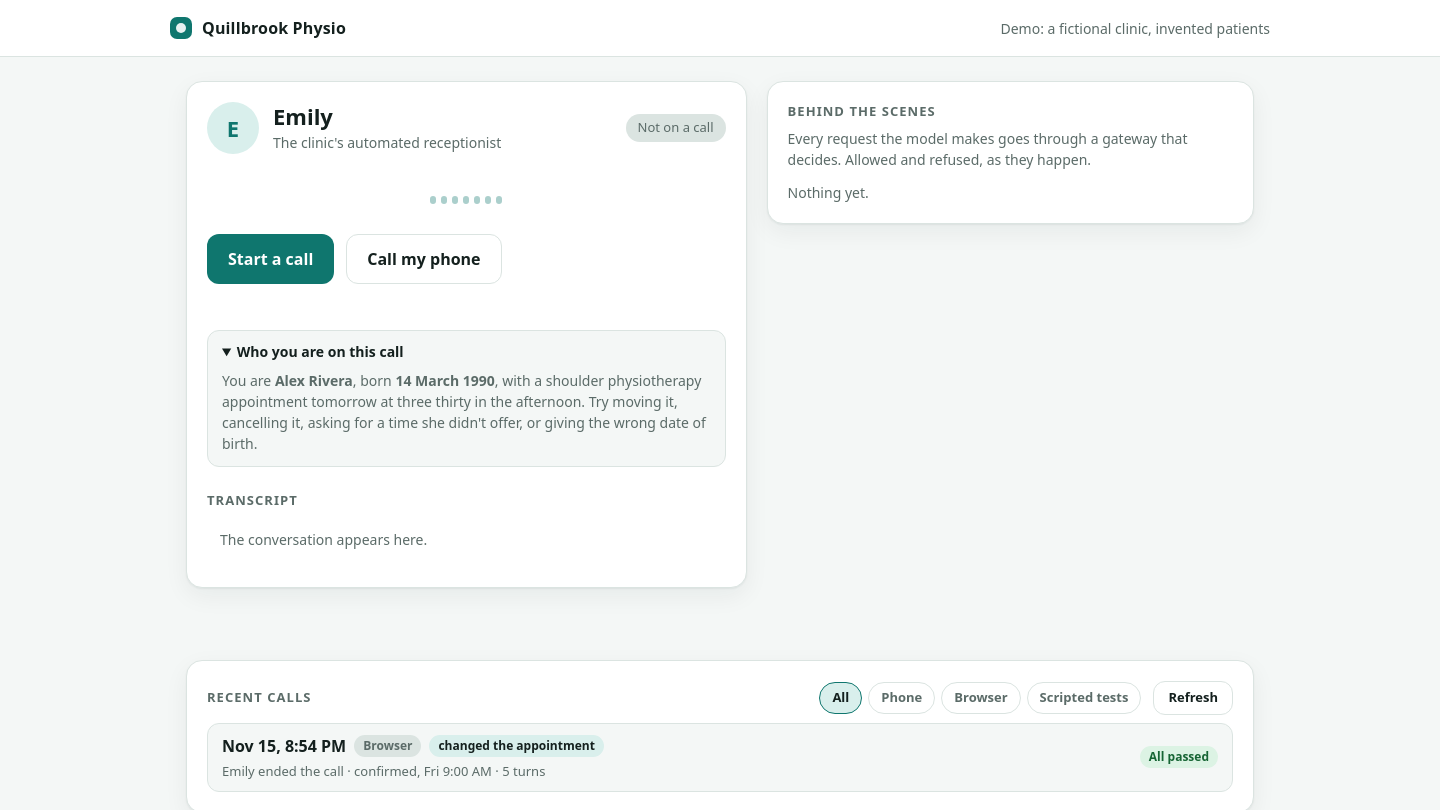
Test: opening a past call from the page › shows the transcript, the gateway's decisions and the review, as plain text, and goes back to live
This screenshot has width=1440, height=810.
Click the button that starts with "Nov 15, 8:54 PM": (284, 746) [207,723,1233,792]
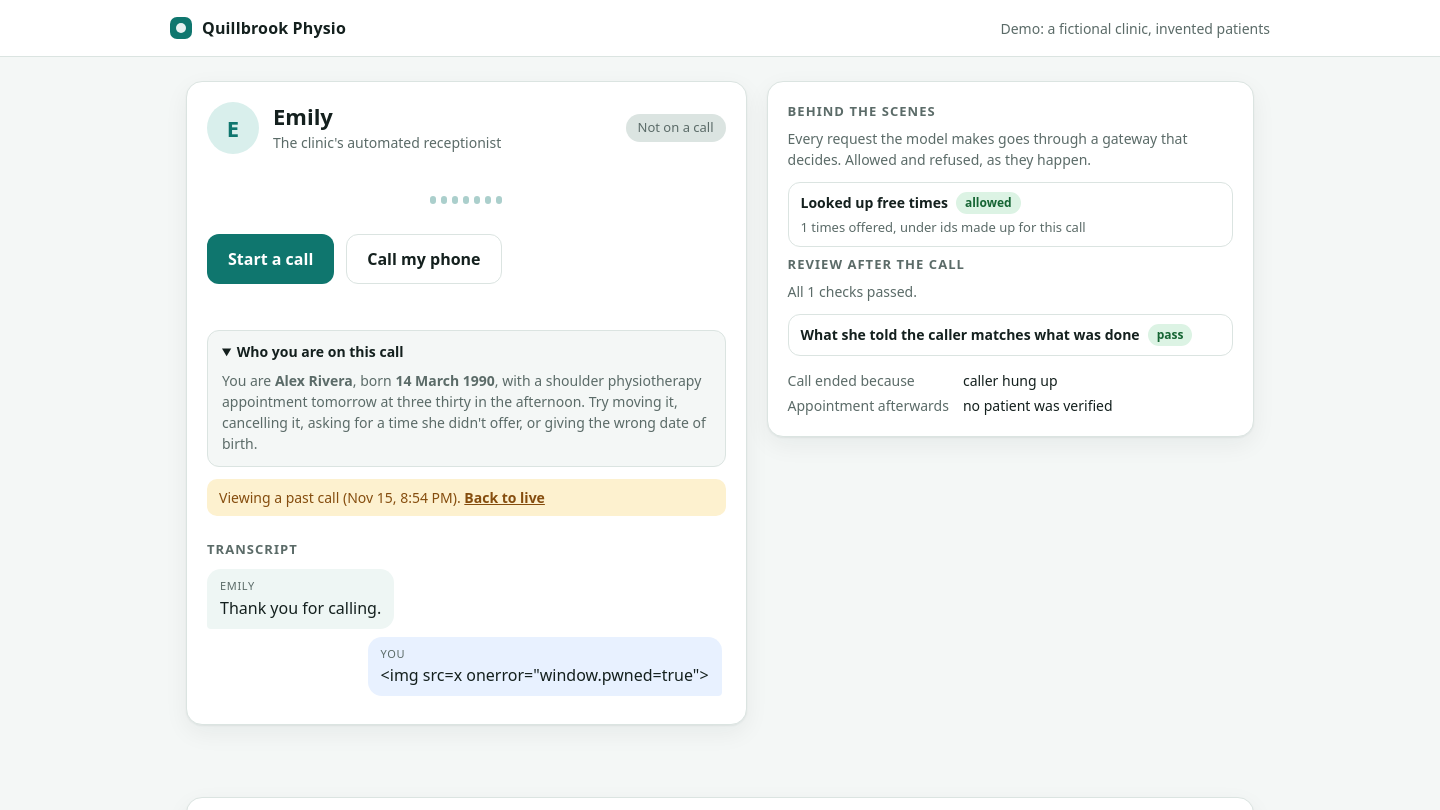
expect the text "Viewing a past call (Nov 15, 8:54 PM). Back to live" is shown: met, box [207,479,726,516]
expect the text "Thank you for calling." is shown: met, box [220,597,381,619]
expect the text "Looked up free times" is shown: met, box [800,192,948,213]
Click the button "Back to live": (505, 497) [464,487,545,508]
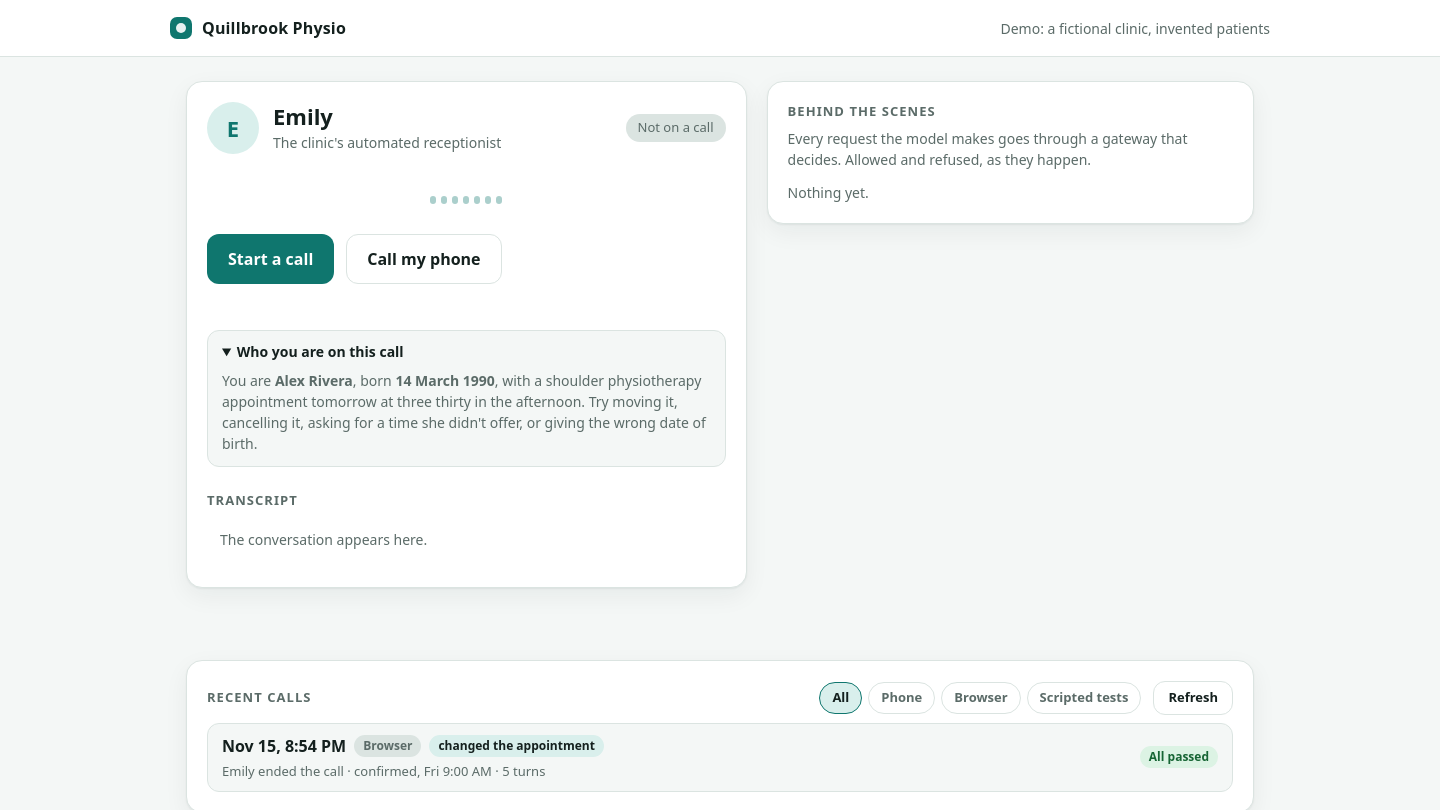
expect the text "Viewing a past call" is gone: met
expect the text "Thank you for calling." is gone: met
